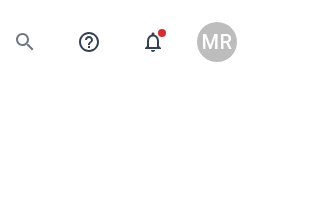
it: UserToolBar › render close menu when clicking the avatar button
Click the button "MR" at x=217, y=42, box [185,16,249,68]
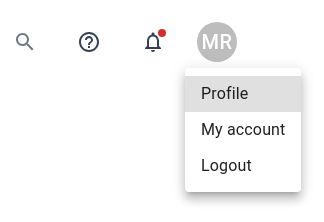
Now the menu is shown, box [185,68,302,192]
Click the menu item "Profile" at x=243, y=94, box [185,76,302,112]
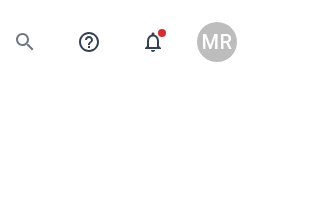
Now the menu is gone
